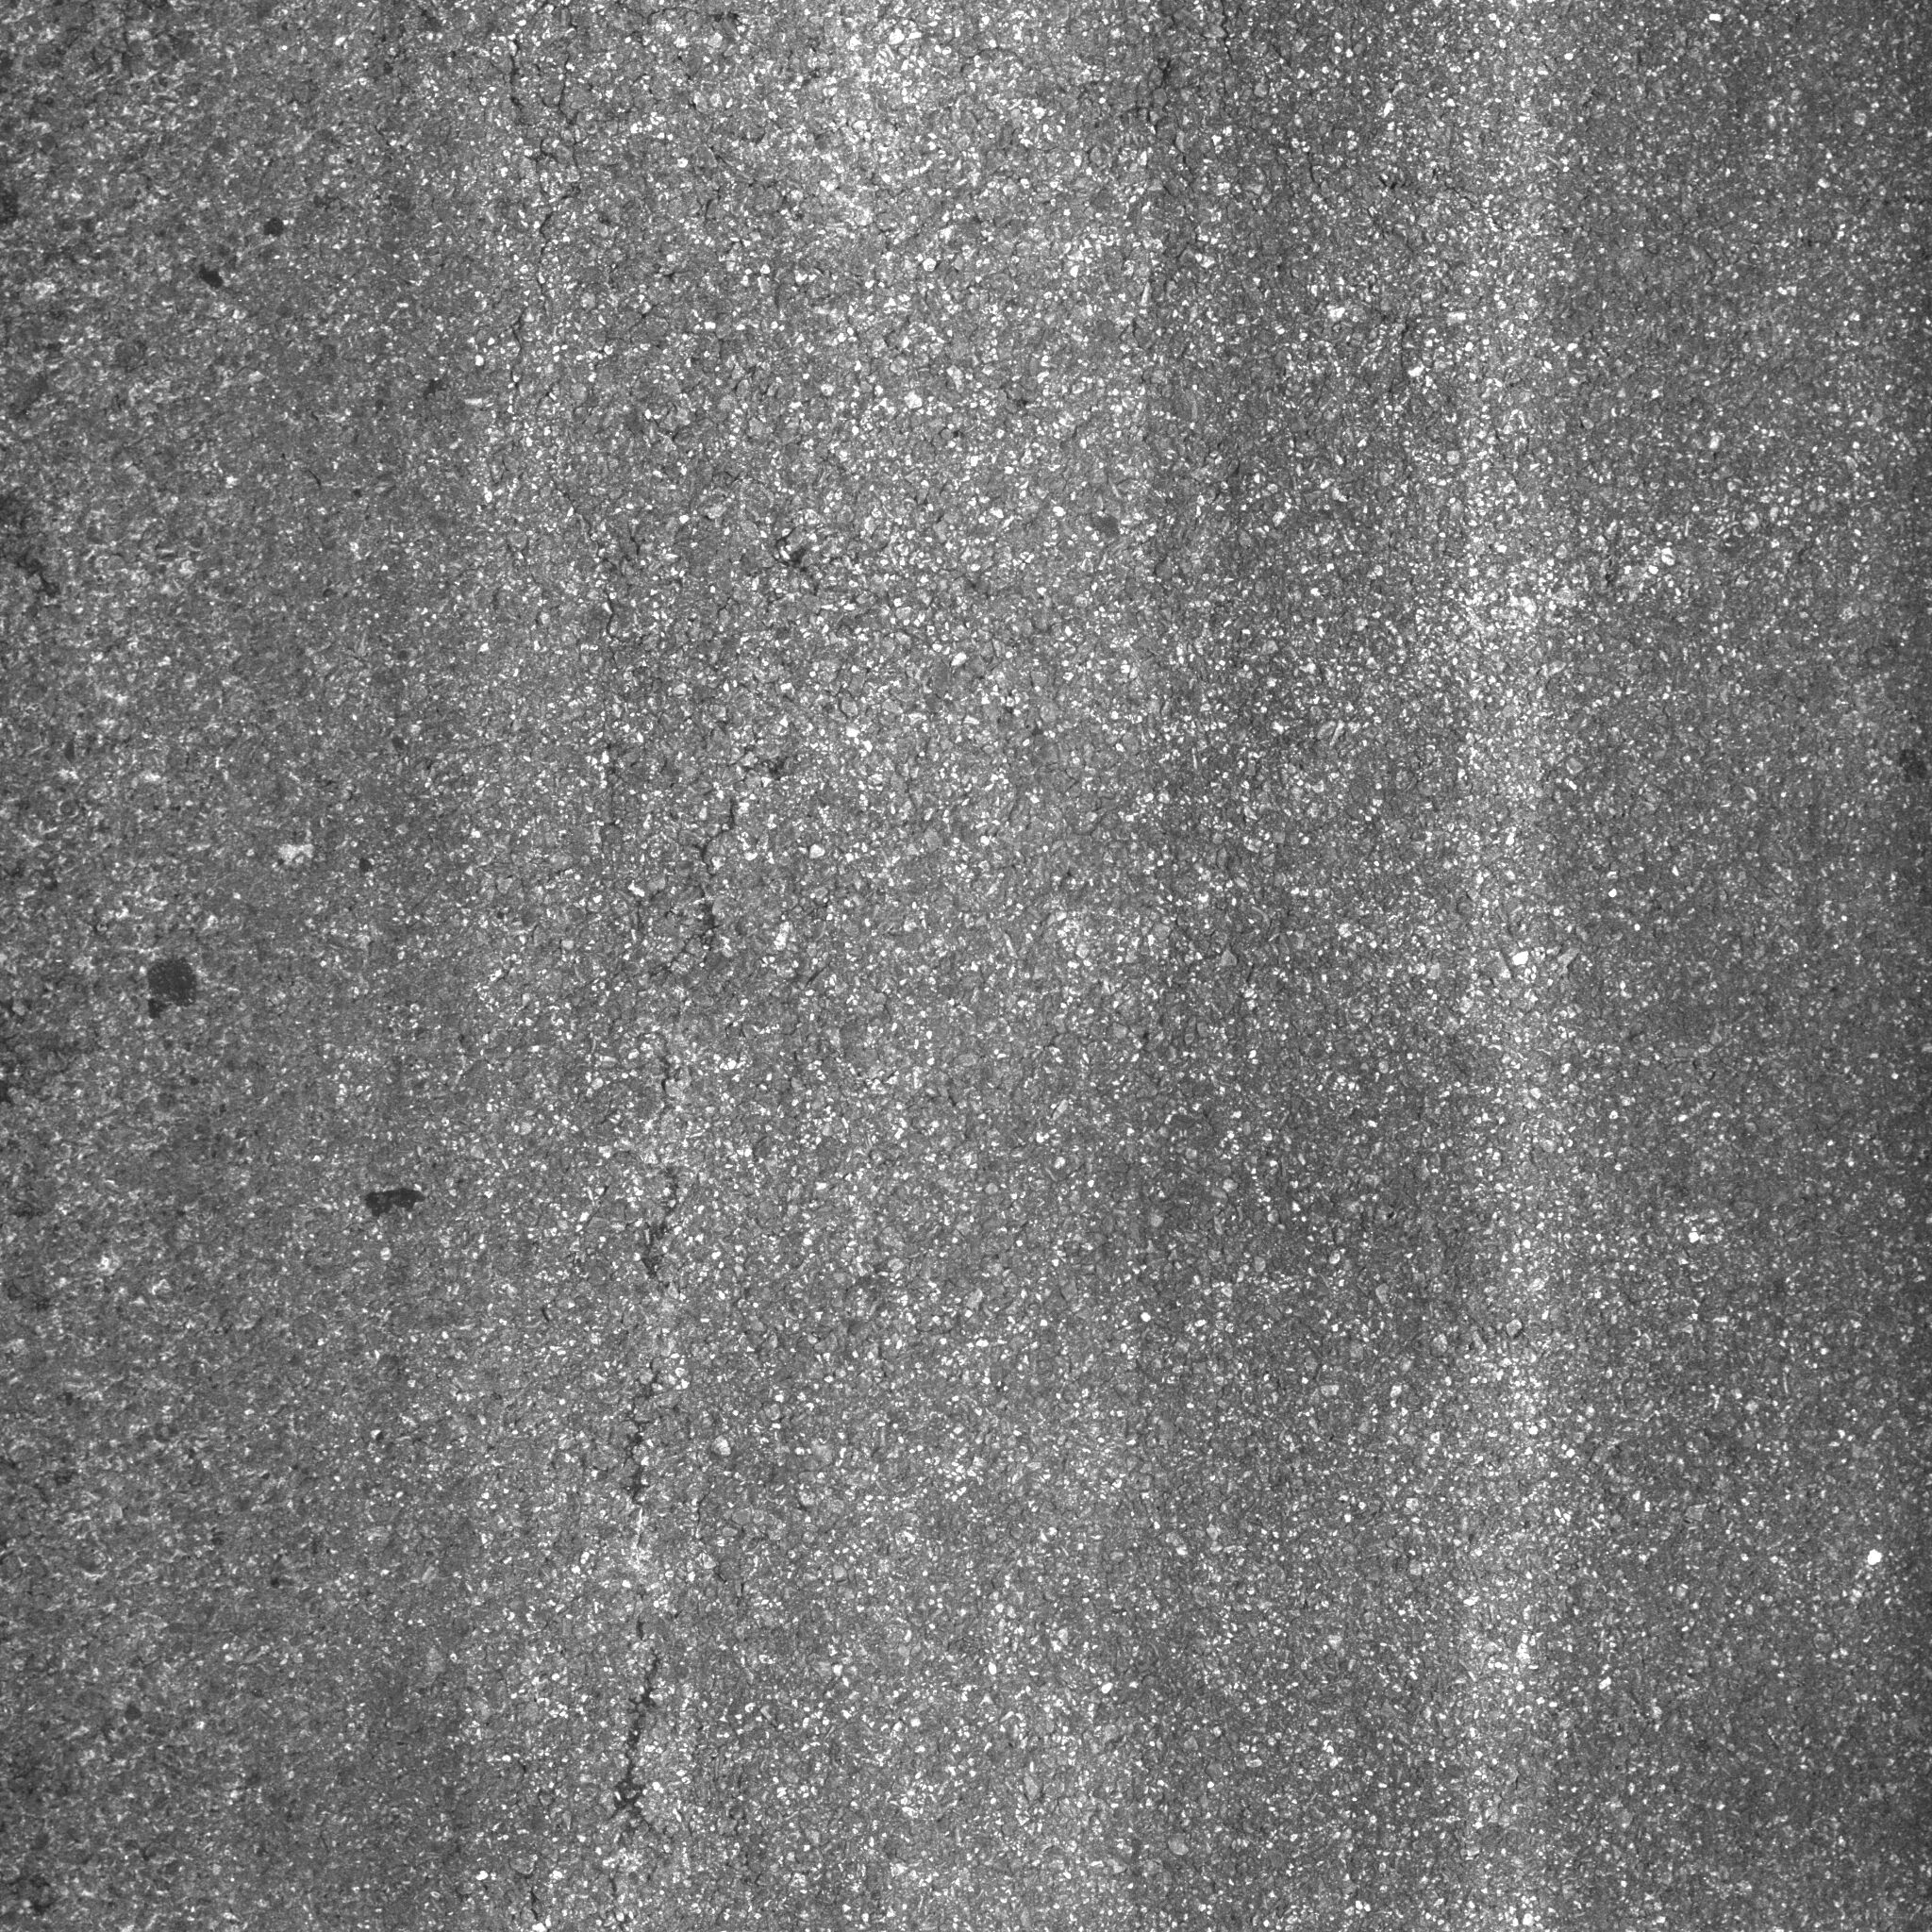longitudinal: (593, 644, 778, 1905)
